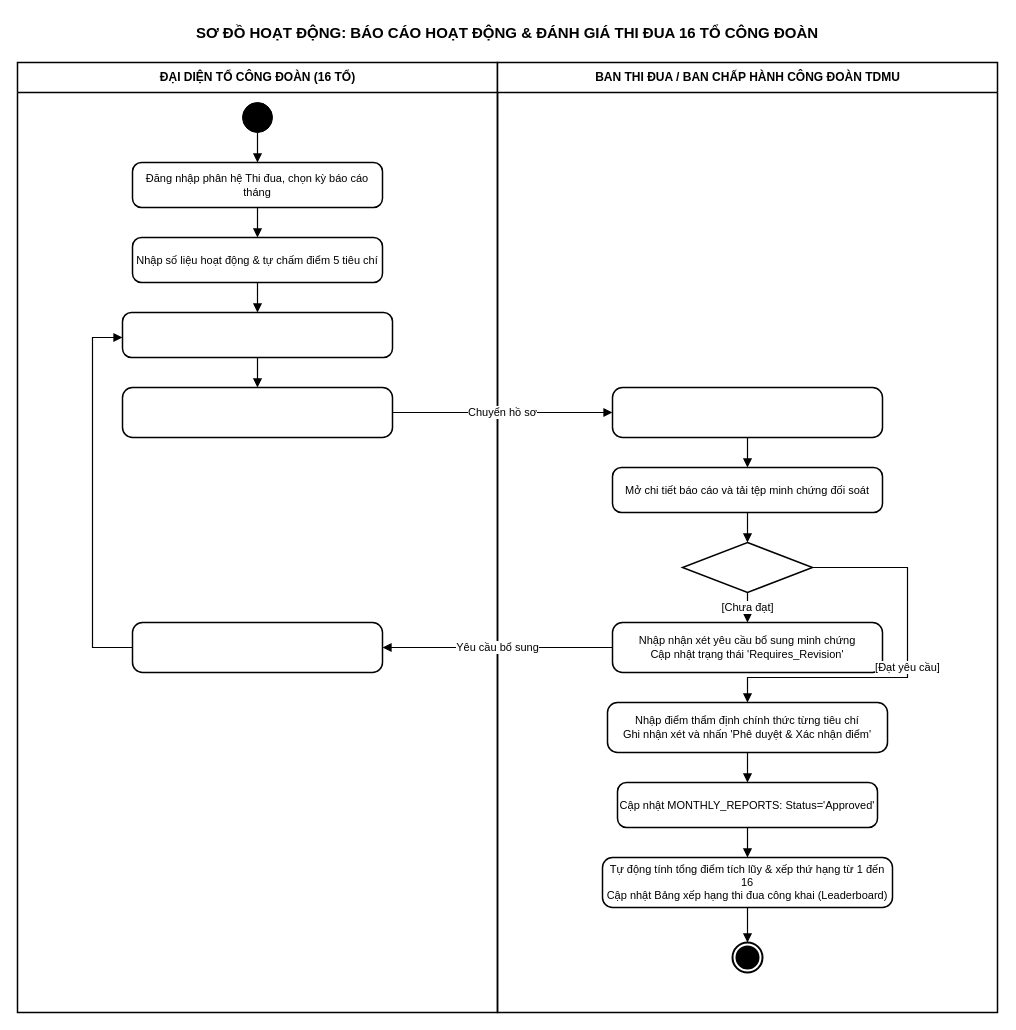
Some shapes in this 1016 by 1030 pixel diagram are drawn without their labels. Each missing label, with the centre of its shape:
Ban Thi đua nhận thông báo, mở danh sách báo cáo 16 Tổ: point 747,412
Minh chứng đạt?: point 747,567
Nhấn 'Nộp báo cáo chính thức' Lưu vào MONTHLY_REPORTS trạng thái Chờ duyệt: point 257,412
Tải lên các tệp biên bản và ảnh minh chứng hoạt động: point 257,334
Tổ CĐ nhận thông báo, cập nhật lại minh chứng: point 257,647
